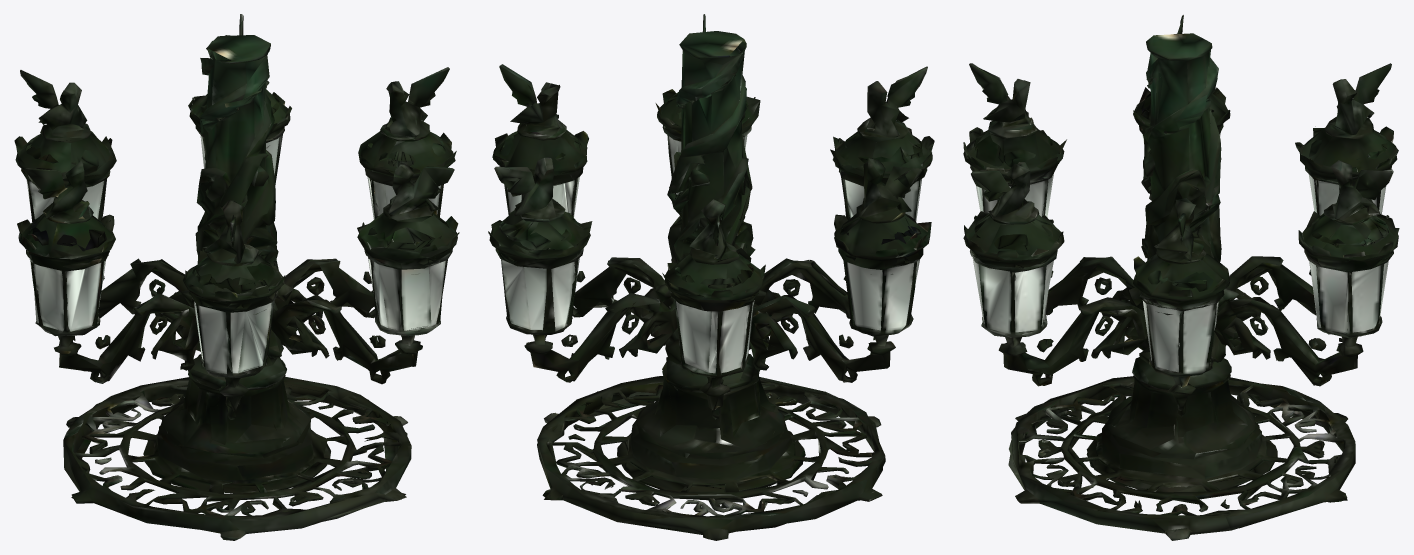
Rendered from barcelona-fanal.glb.
3 renders of one model, left to right at view 1: azimuth 30°, elevation 25°; view 2: azimuth 150°, elevation 25°; view 3: azimuth 270°, elevation 25°, orthographic.
Visible parts, largest first — view 1: geometry_0; view 2: geometry_0; view 3: geometry_0.
Part boxes in pixels (x1=…): geometry_0: x1=14, y1=14, x2=459, y2=540; geometry_0: x1=488, y1=14, x2=934, y2=540; geometry_0: x1=963, y1=15, x2=1399, y2=540.
Size of the model in its own units: 1 by 0.9397 by 0.8896.
Materials: 1 (1 with a texture image).
